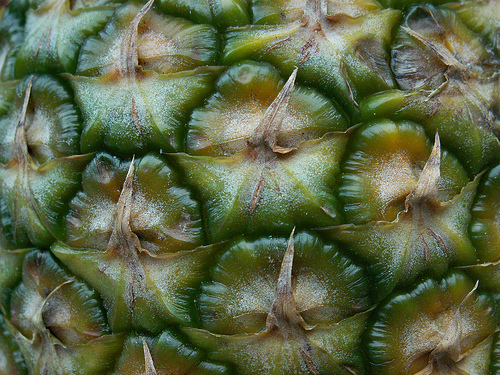pineapple: (1, 0, 498, 373)
